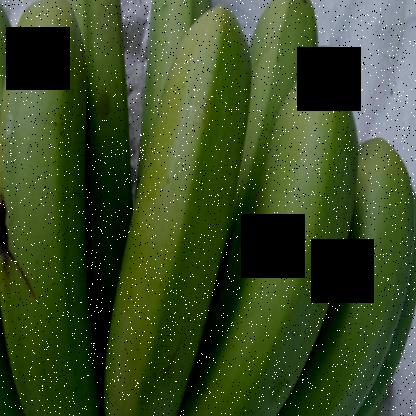freshunripe: (88, 0, 262, 415), (180, 53, 359, 415), (4, 0, 100, 415), (301, 142, 416, 415), (251, 0, 323, 102)
